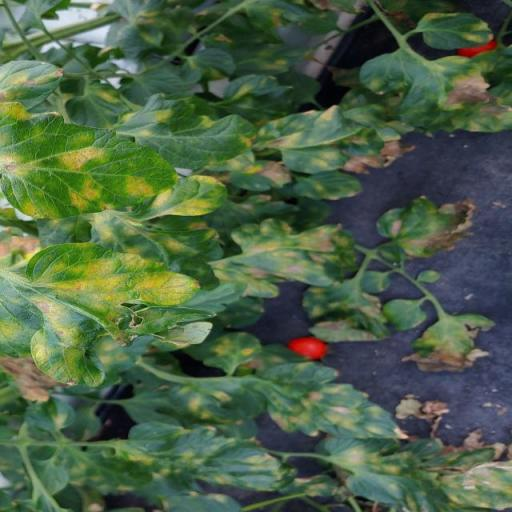Leaf Mold: (0, 241, 218, 386), (0, 101, 179, 220), (357, 48, 512, 133), (248, 360, 412, 440), (113, 422, 299, 492), (206, 218, 360, 300), (112, 92, 258, 170), (260, 104, 384, 174), (419, 7, 493, 50)
